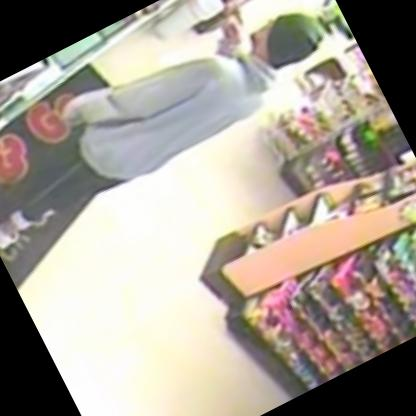Human Body: (0, 0, 357, 266)
